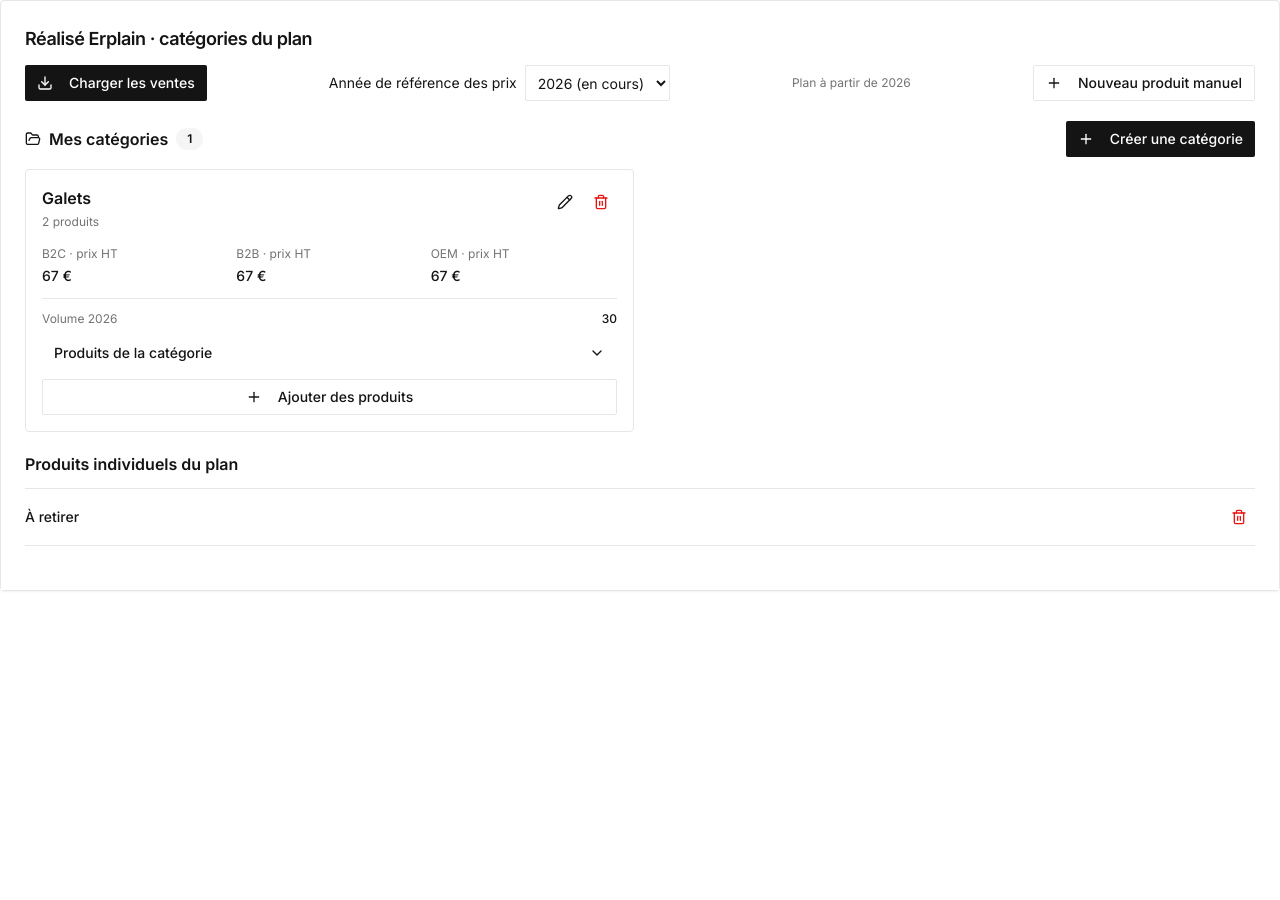
Scenario: Plan category uniqueness › creates a manual product, adds it to a saved category, keeps names after remount and removes individual products
Earlier steps of the test are not shown.
Later steps or results of the test are not shown.
Click the button "Produits de la catégorie": x=133, y=352 [42,335,617,371]
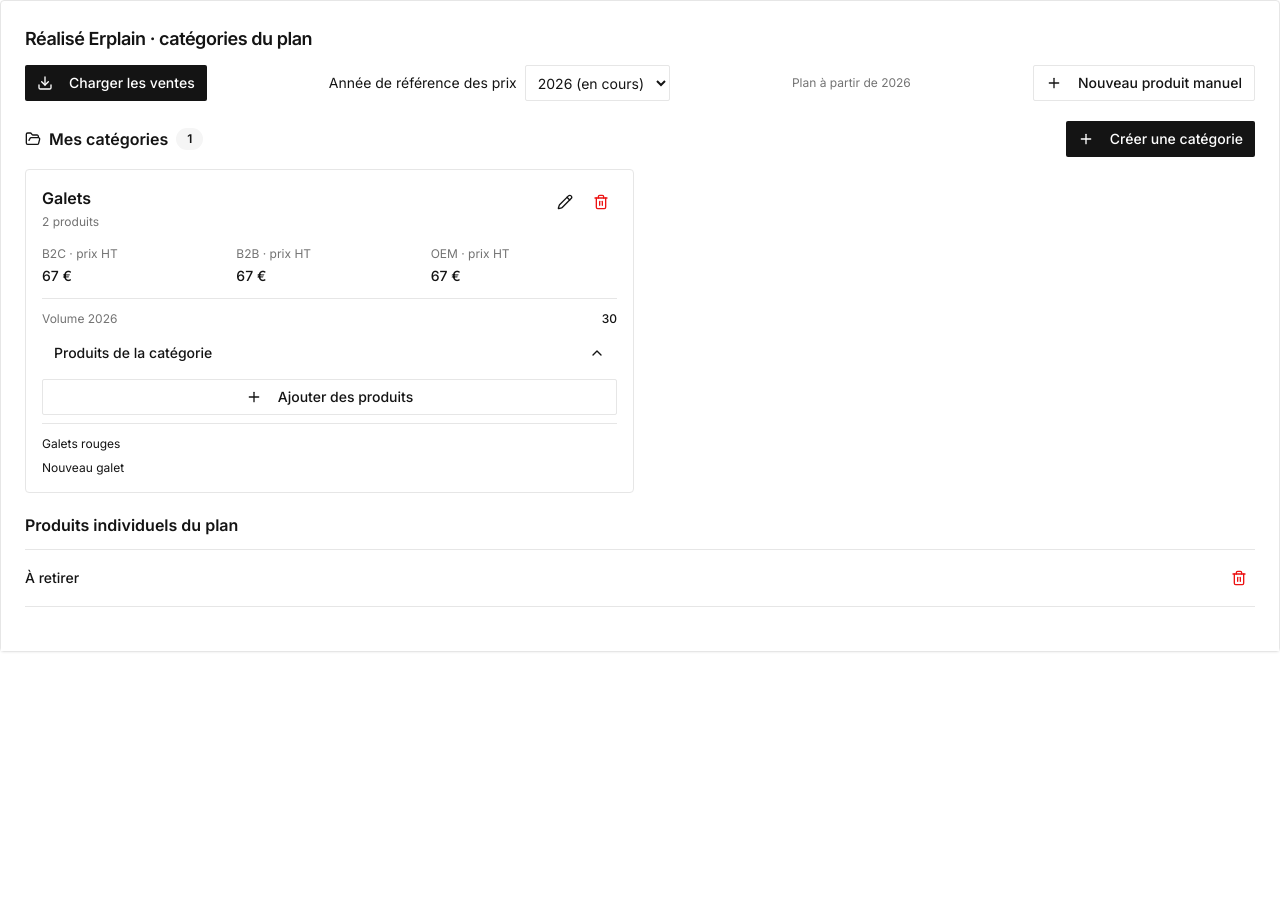
Expected: the list item "Galets rouges" is shown, [42,436,120,451]
Expected: the list item "Nouveau galet" is shown, [42,460,124,475]
